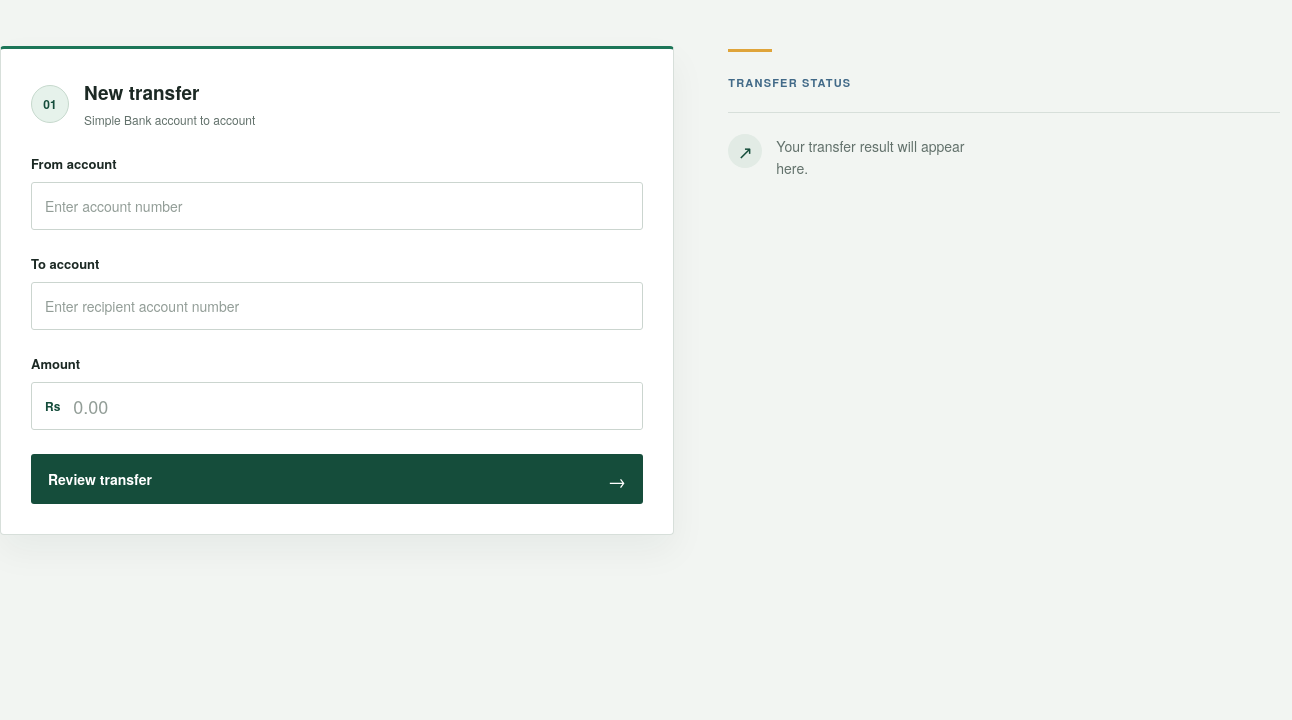
Test: TransferForm rejection result › shows the rejection code and transaction ID without showing success
Type "10000001" into the field labelled "From account".
click(337, 206); type("10000001")  # box [31, 182, 643, 230]
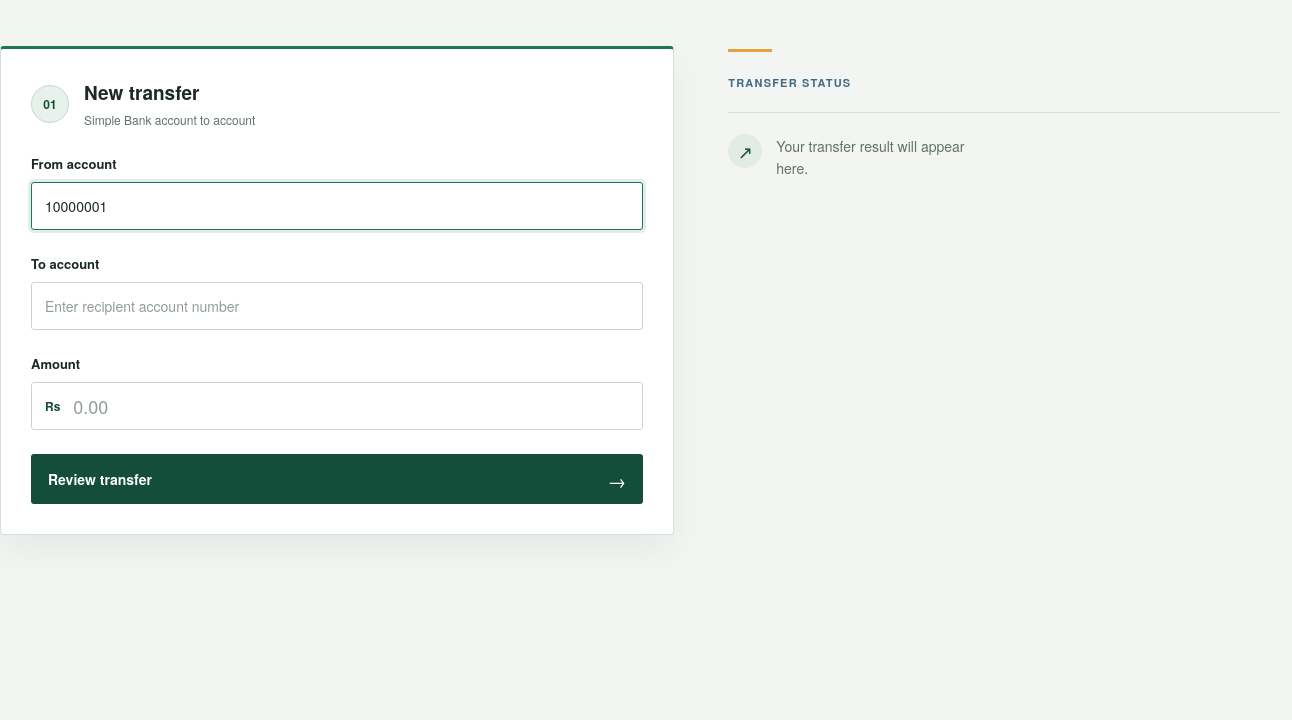
Type "20000002" into the field labelled "To account".
click(337, 306); type("20000002")  # box [31, 282, 643, 330]
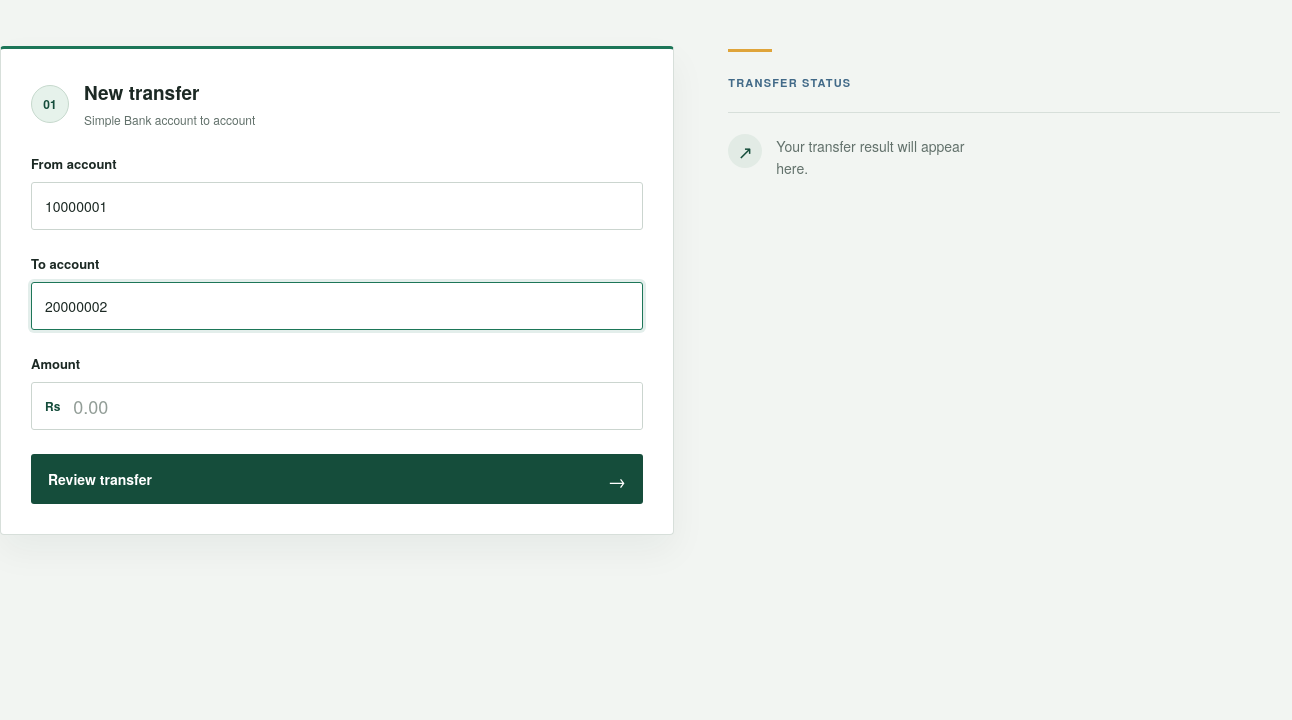
Type "500.00" into the field labelled "Amount".
click(351, 406); type("500.00")  # box [60, 383, 642, 429]
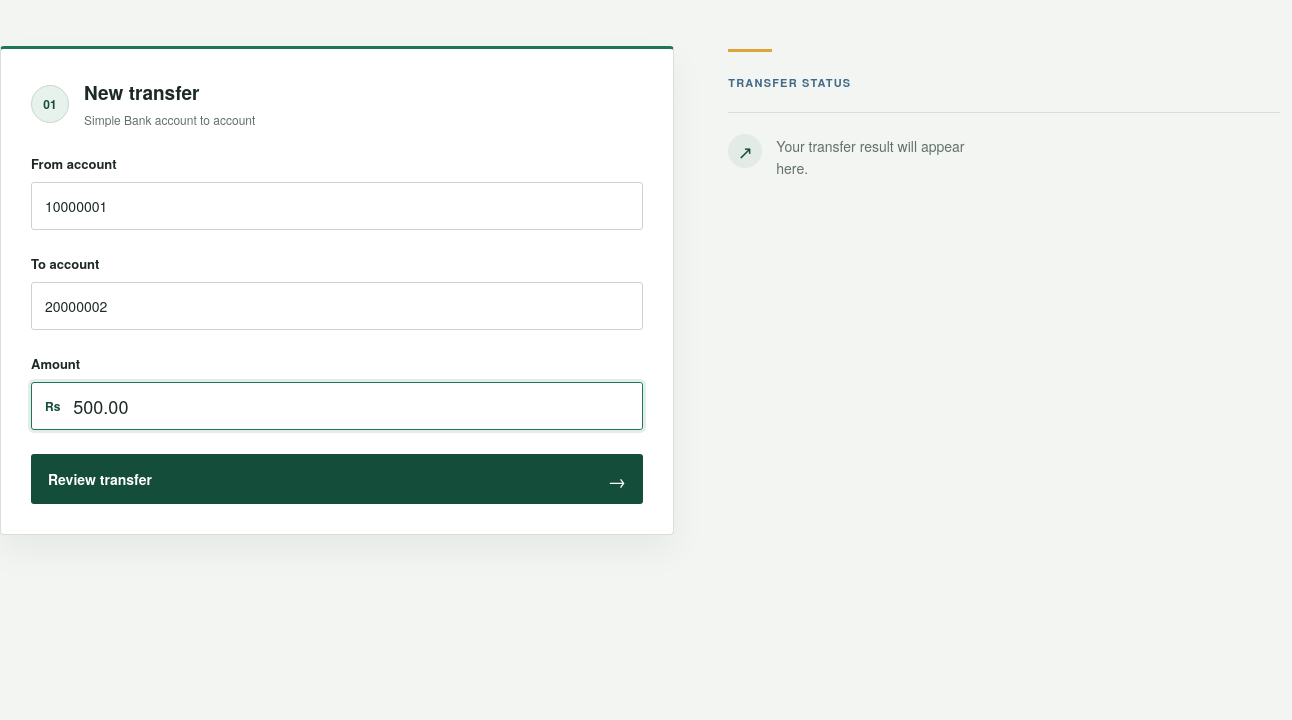
Click the button "Review transfer →".
click(100, 479)  # box [31, 454, 643, 504]
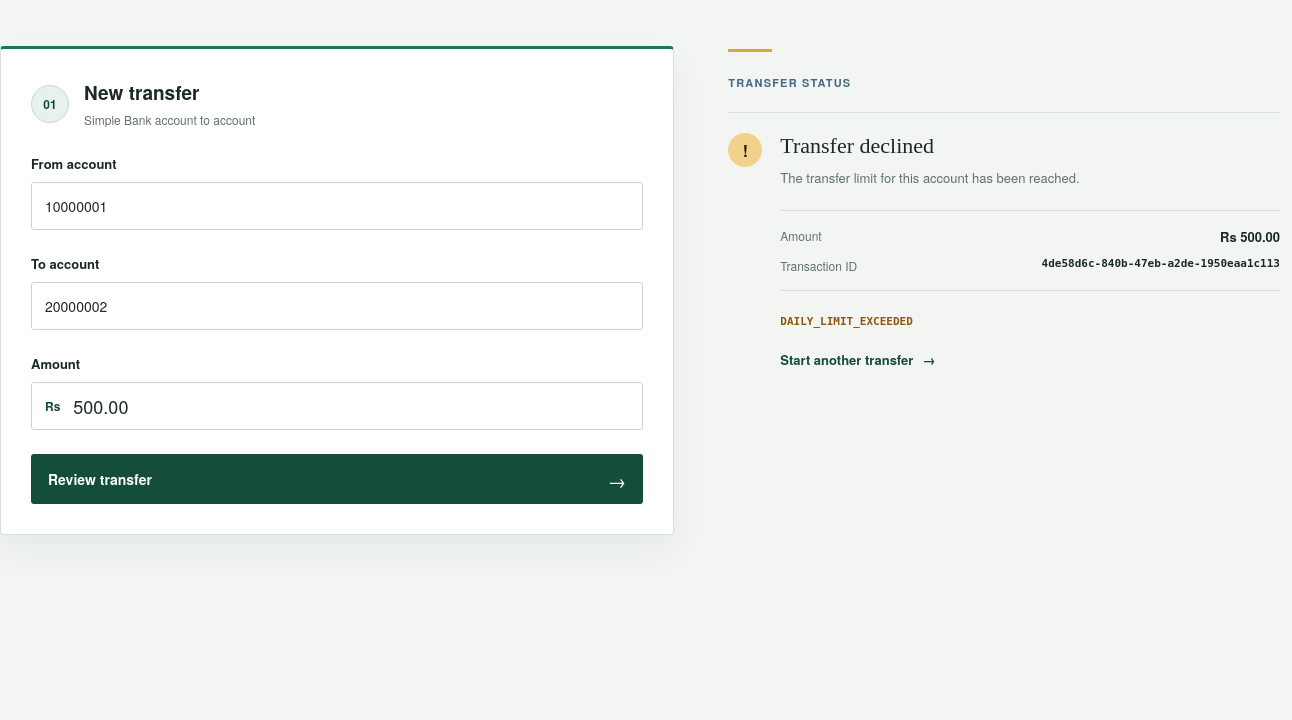
Expected: the heading "Transfer declined" is shown, [780, 133, 934, 158]
Expected: the text "DAILY_LIMIT_EXCEEDED" is shown, [780, 315, 913, 328]
Expected: the text "4de58d6c-840b-47eb-a2de-1950eaa1c113" is shown, [1042, 257, 1280, 274]
